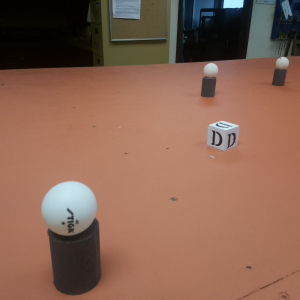obstacle: (44, 180, 100, 293), (201, 63, 219, 97), (272, 56, 290, 86)
